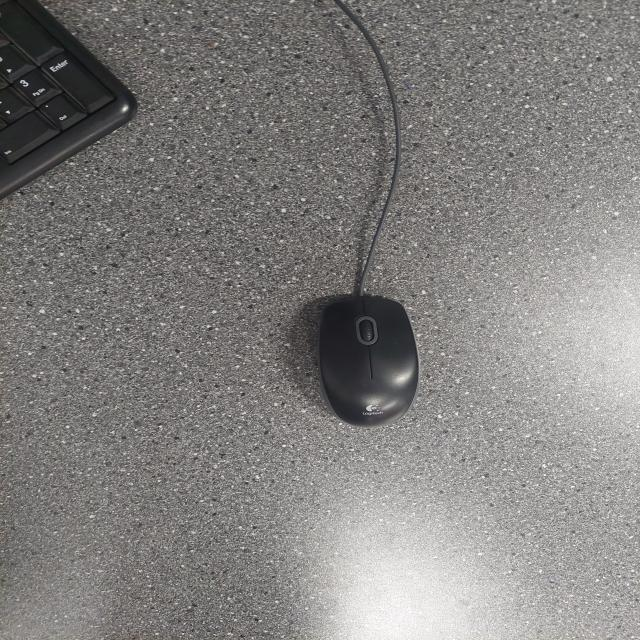mysz: (293, 274, 441, 436)
